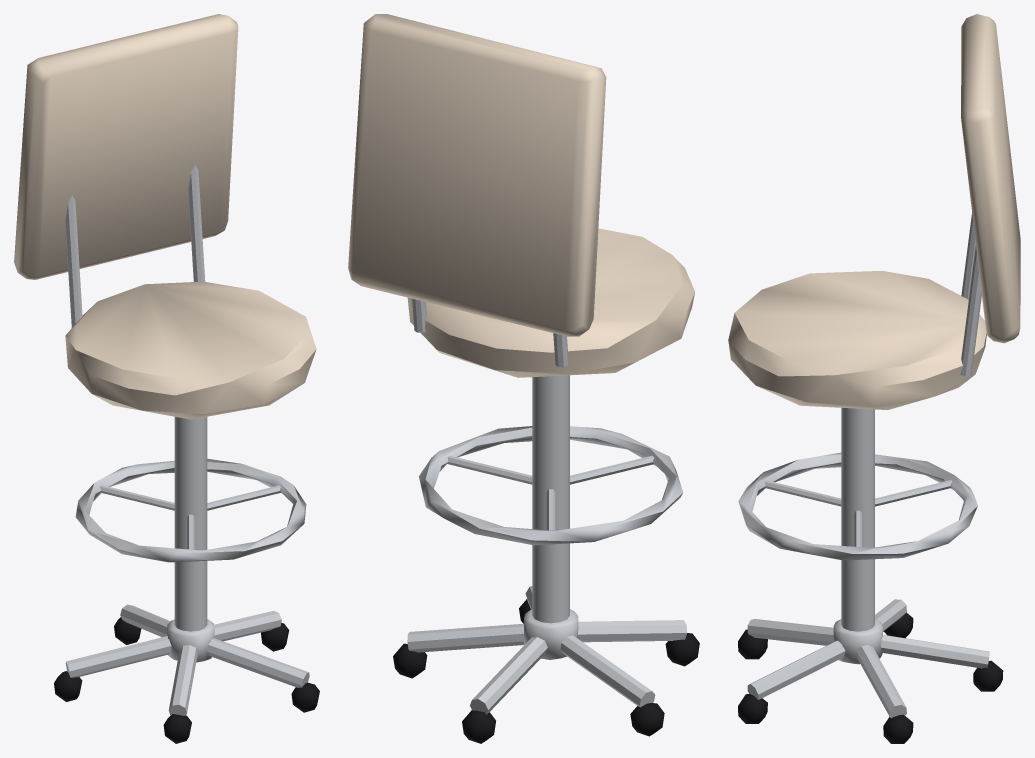
Rendered from cadeira-de-camarim-leve.glb.
3 renders of one model, left to right at view 1: azimuth 30°, elevation 25°; view 2: azimuth 150°, elevation 25°; view 3: azimuth 270°, elevation 25°, orthographic. The views are drawn at different scales.
Parts seen in each view (by area): view 1: encosto, assento, coluna, apoio-pes, pata.002, pata.004, haste-encosto, haste-encosto.001, pata.003, pata, cubo, pata.001 (+7 smaller); view 2: encosto, assento, coluna, apoio-pes, pata, pata.003, pata.002, pata.001, cubo, rodizio.001, rodizio.002, raio-apoio (+3 smaller); view 3: assento, encosto, coluna, apoio-pes, pata.001, pata.004, pata.003, pata, haste-encosto.001, cubo, rodizio, rodizio.004 (+6 smaller).
Boxes of the visible parts, box(x1,y1,x2,y2) form: encosto: box(14, 14, 238, 279); assento: box(65, 281, 316, 419); coluna: box(174, 417, 207, 631); apoio-pes: box(75, 458, 306, 562); pata.002: box(65, 636, 171, 677); pata.004: box(207, 638, 309, 687); haste-encosto: box(65, 195, 82, 327); haste-encosto.001: box(188, 164, 205, 281); pata.003: box(168, 645, 197, 715); pata: box(214, 610, 281, 641); cubo: box(167, 619, 214, 662); pata.001: box(120, 604, 170, 637); encosto: box(348, 14, 606, 336); assento: box(407, 228, 694, 377); coluna: box(532, 375, 569, 623); apoio-pes: box(419, 426, 683, 545); pata: box(407, 623, 523, 652); pata.003: box(578, 620, 687, 642); pata.002: box(560, 635, 655, 707); pata.001: box(470, 637, 547, 714); cubo: box(524, 609, 578, 659); rodizio.001: box(462, 710, 495, 743); rodizio.002: box(630, 703, 664, 736); raio-apoio: box(446, 455, 532, 484); assento: box(728, 271, 986, 409); encosto: box(961, 14, 1020, 343); coluna: box(841, 407, 874, 631); apoio-pes: box(738, 452, 977, 560); pata.001: box(881, 634, 989, 668); pata.004: box(747, 640, 845, 699); pata.003: box(747, 619, 833, 645); pata: box(856, 644, 906, 718); haste-encosto.001: box(960, 246, 981, 376); cubo: box(833, 619, 882, 664); rodizio: box(883, 714, 913, 743); rodizio.004: box(738, 694, 767, 723).
Bounding box in the file's own units: 0.4924 × 1.23 × 0.5172.
